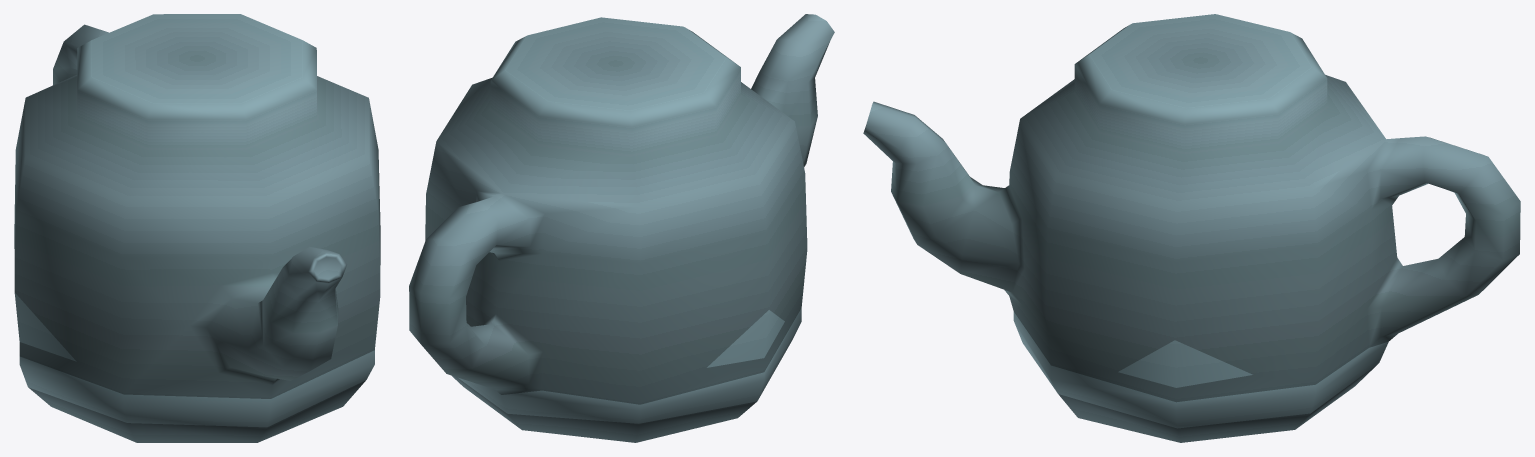
Rendered from CharSkyKid_Prop_AP27TeaStall.glb.
3 views of the same model, side by side, from view 1: azimuth 30°, elevation 25°; view 2: azimuth 150°, elevation 25°; view 3: azimuth 270°, elevation 25° (orthographic). The views are drawn at different scales.
Parts seen in each view (by area): view 1: CharSkyKid_Prop_AP27TeaStall; view 2: CharSkyKid_Prop_AP27TeaStall; view 3: CharSkyKid_Prop_AP27TeaStall.
Boxes of the visible parts, x1,y1,x2,y2 form: CharSkyKid_Prop_AP27TeaStall: (14, 14, 380, 442); CharSkyKid_Prop_AP27TeaStall: (409, 14, 834, 442); CharSkyKid_Prop_AP27TeaStall: (863, 14, 1520, 442).
Bounding box in the file's own units: 2.07 × 1.88 × 3.53.
Materials: 1 (1 with a texture image).
